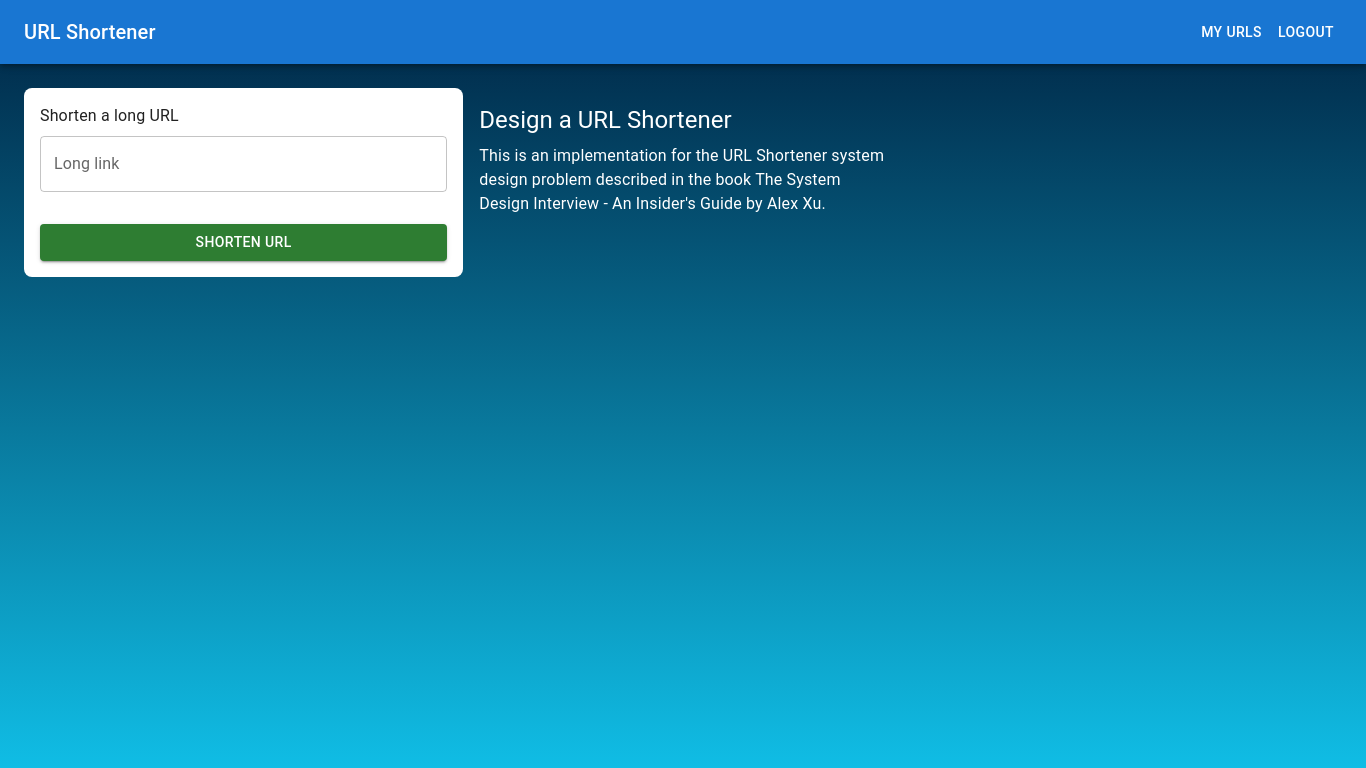
Test case: form validation › should require long URL
Click the button with test id "submit-button".
click(244, 242)  # box [40,224,447,260]
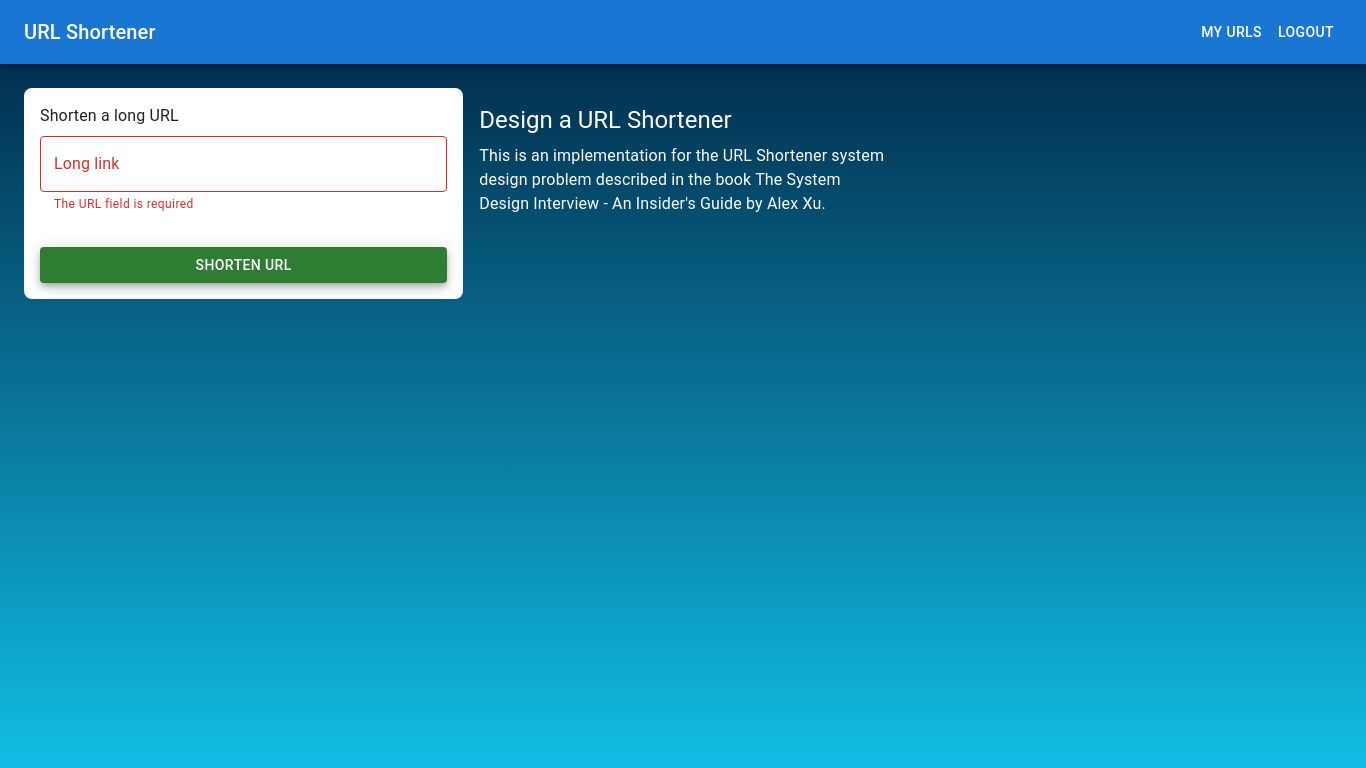
Now the text with test id "long-url-error" reads "The URL field is required", box [54,197,194,211]
